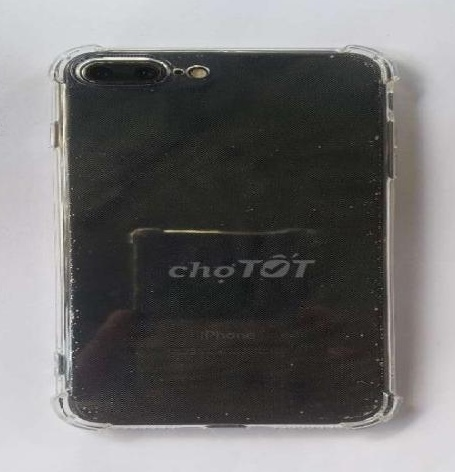scratch: (319, 47, 392, 418), (46, 145, 119, 423), (55, 46, 241, 91), (212, 118, 288, 157), (183, 404, 306, 424)
